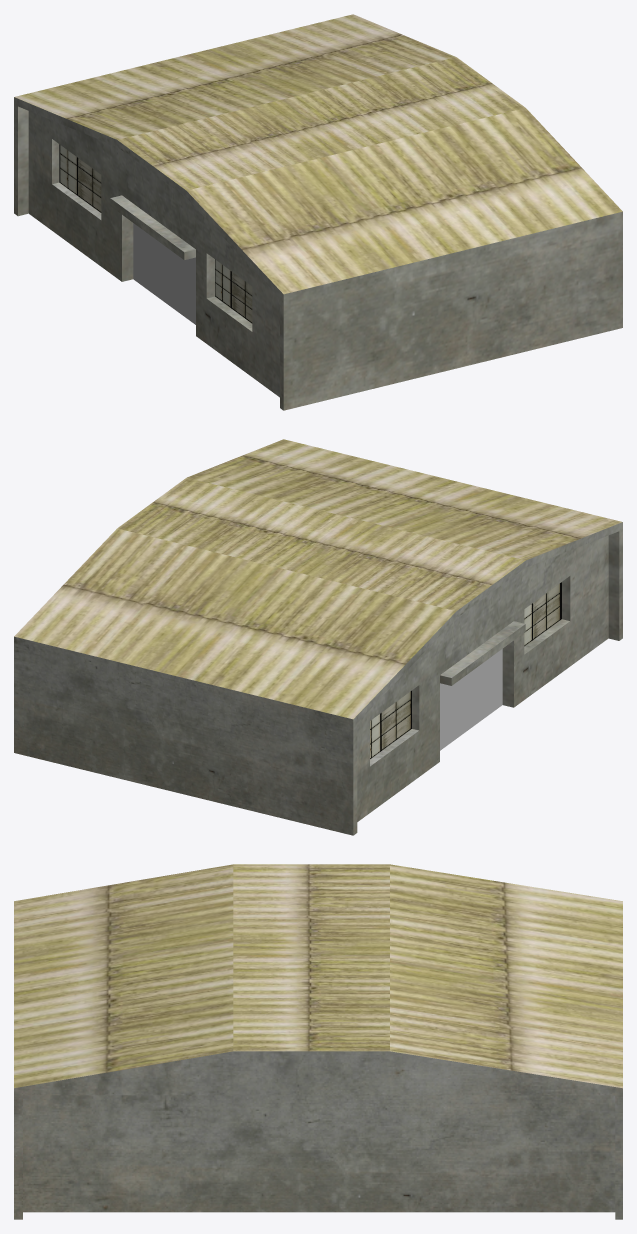
3 renders of one model, top to bottom at view 1: azimuth 30°, elevation 25°; view 2: azimuth 150°, elevation 25°; view 3: azimuth 270°, elevation 25°, orthographic. The views are drawn at different scales.
Visible parts, largest first — view 1: Model; view 2: Model; view 3: Model.
Part boxes in pixels (left/top/right/bottom): Model: left=14, top=14, right=622, bottom=410; Model: left=14, top=439, right=622, bottom=835; Model: left=14, top=864, right=622, bottom=1219.
Size of the model in its own units: 1359 by 568 by 1864.
